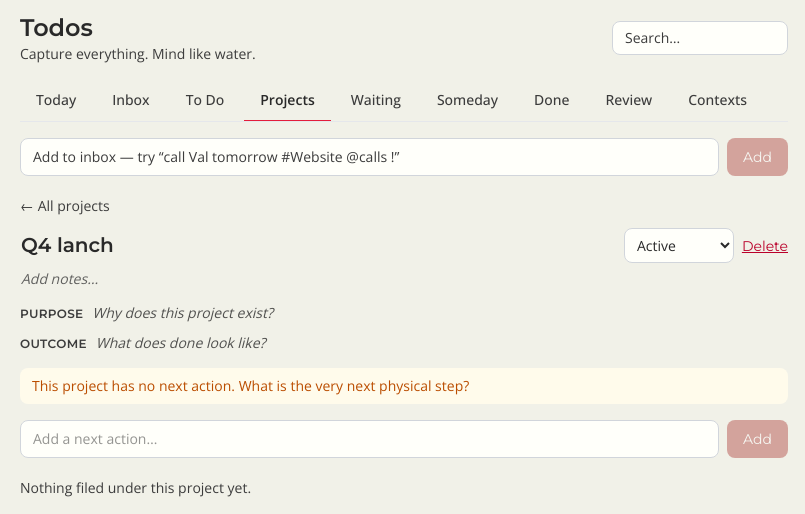
Test: ProjectDetailPage — inline name edit (#232) › sends nothing when the name is unchanged
Click the button titled "Click to rename" at (67, 245), box [16, 228, 119, 262]
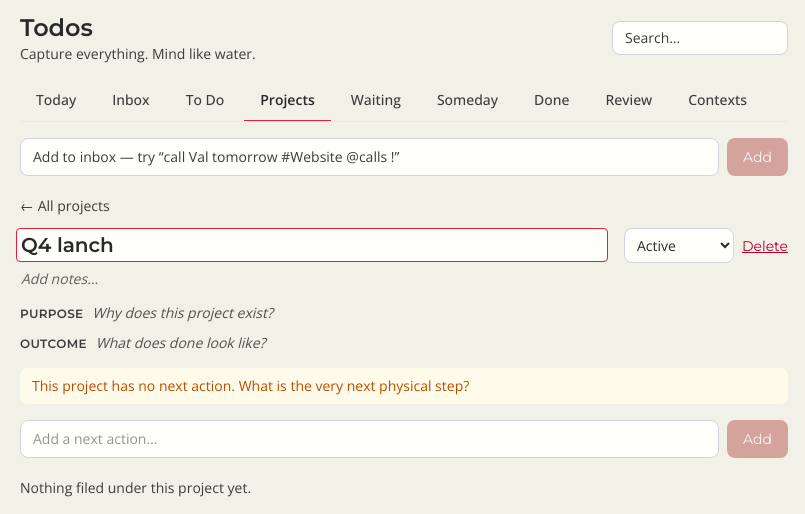
Leave the field named "Project name", box [16, 228, 608, 262]
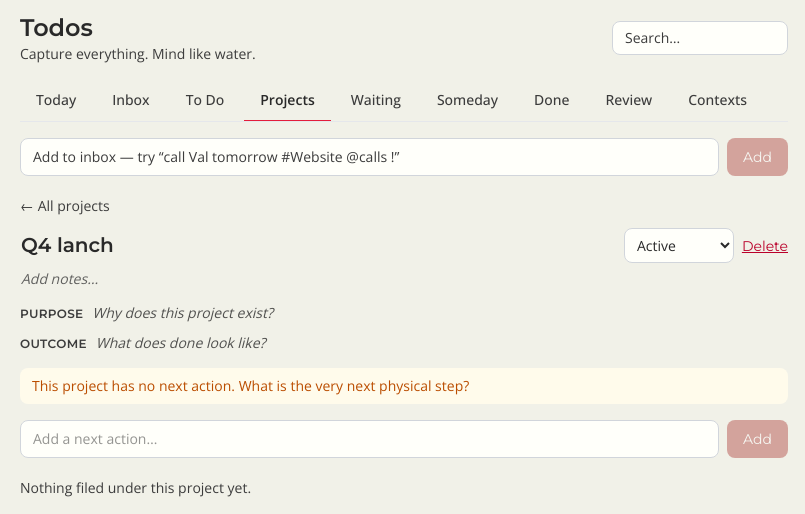
Result: the button titled "Click to rename" reads "Q4 lanch" at [16, 228, 119, 262]
